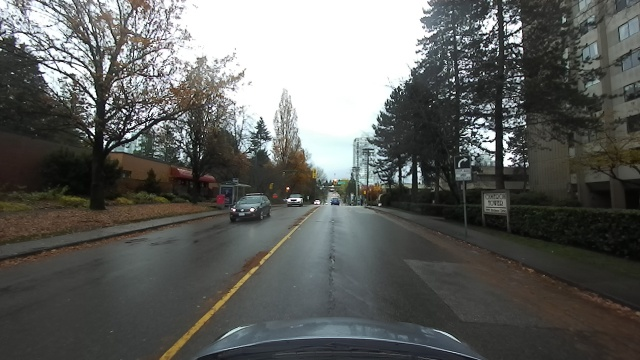car: (226, 191, 275, 224), (283, 191, 307, 207), (329, 195, 341, 205)
